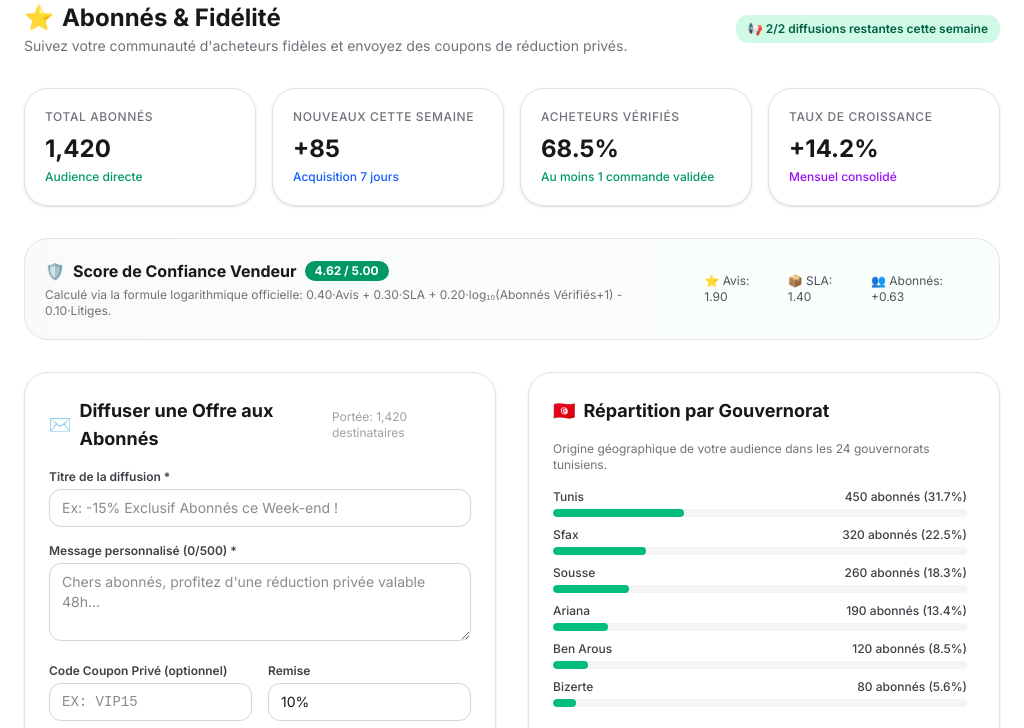
Scenario: Feature 20: Seller Loyalty Dashboard & Broadcasts (R5) › Tier 2: Boundary States & Rate Limiting › T2.2: handles HTTP 429 rate limit response gracefully with alert message
The width and height of the screenshot is (1024, 728).
Type "Broadcast test" into the field with test id "input-broadcast-title".
click(260, 508); type("Broadcast test")  # box [49,489,471,527]
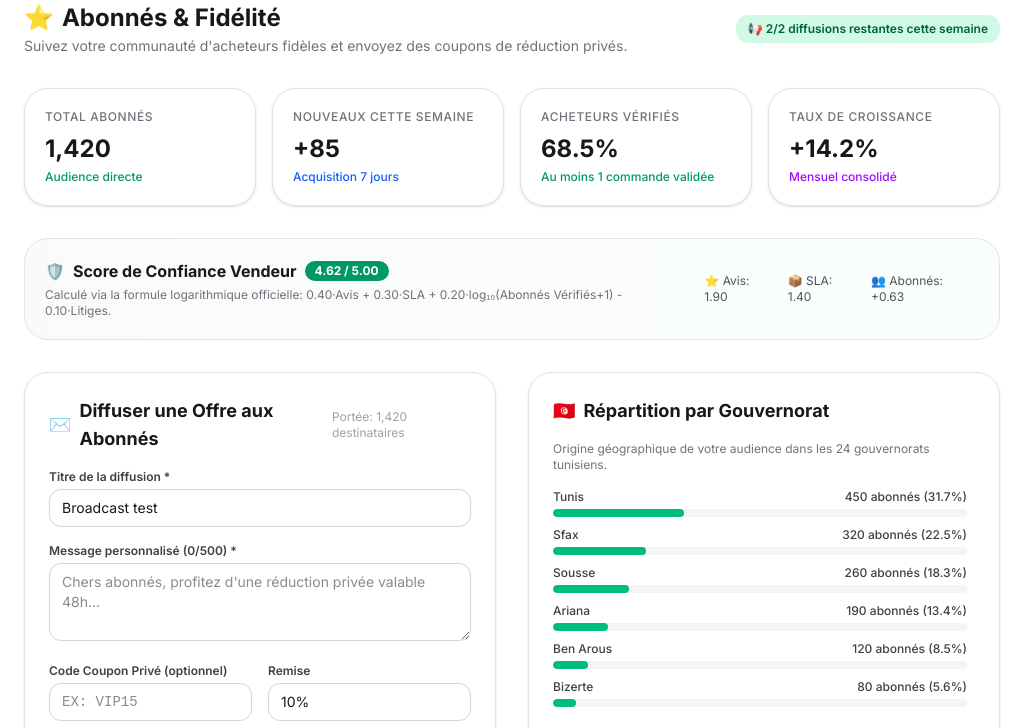
Replace the text in the text box with test id "input-broadcast-message" with "Message test" at (260, 602), box [49,563,471,641]
(page scrolled)
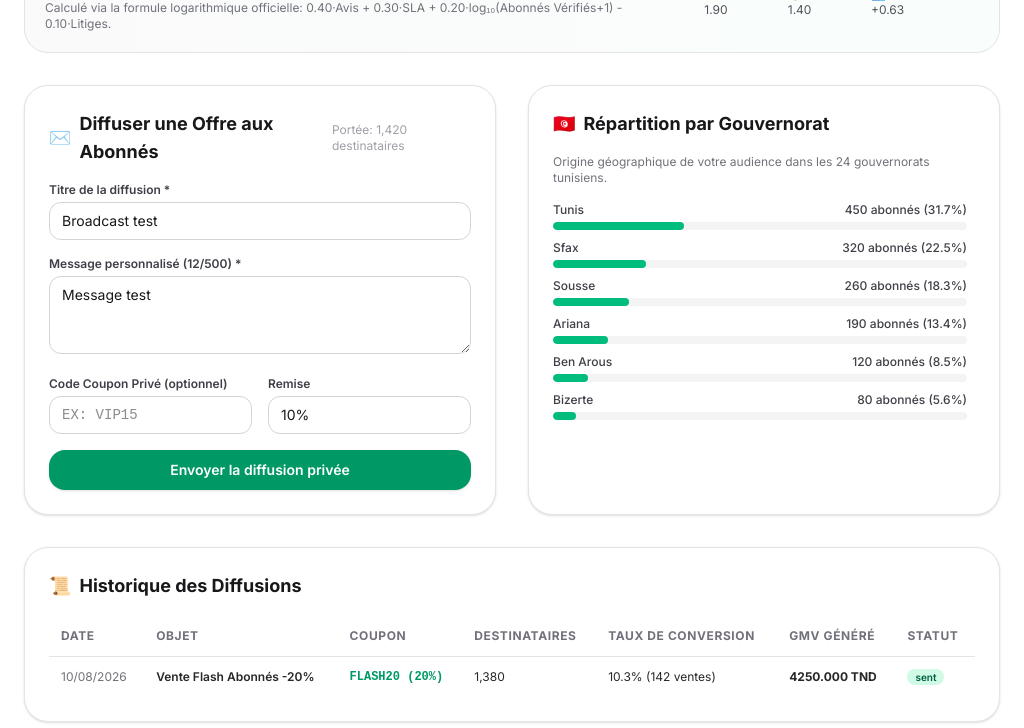
Click the button with test id "btn-submit-broadcast".
click(260, 470)  # box [49,450,471,490]
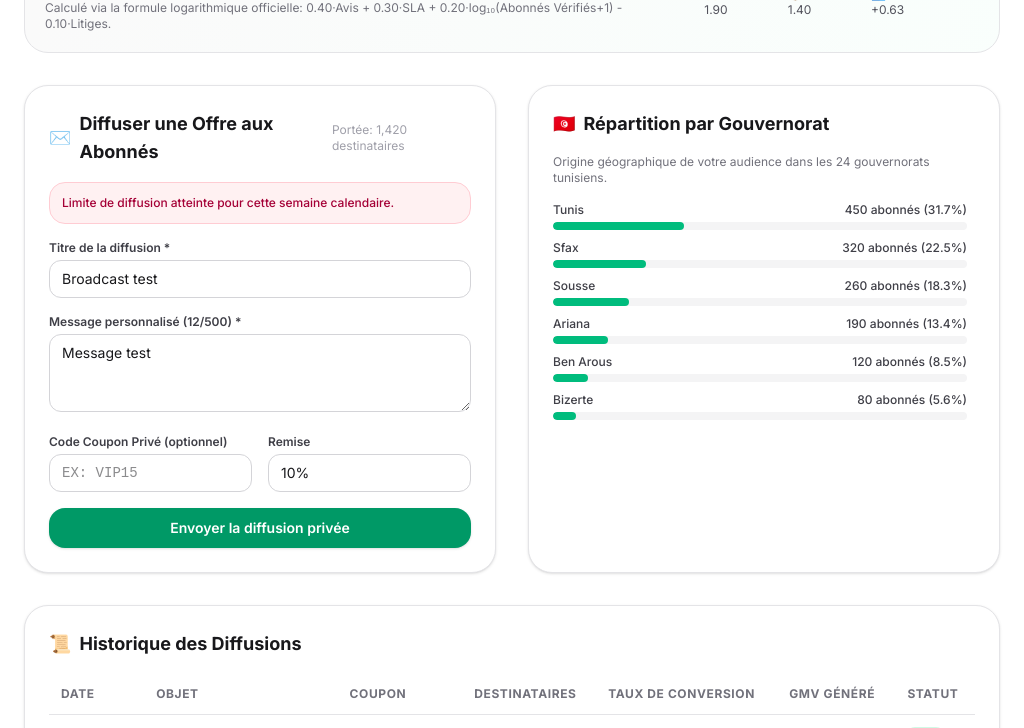
Now the message reads "Limite de diffusion atteinte pour cette semaine calendaire.", box [62,195,394,210]
